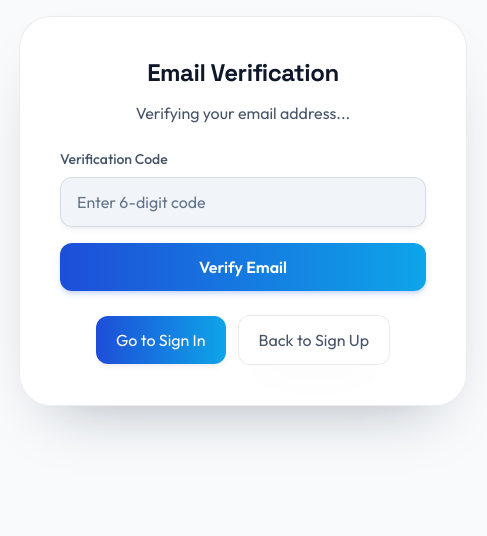
Test: Verify Email Page › shows an error message when verification fails
Type "000000" into the field labelled "Verification Code" at [243, 202], box [60,177,426,227]
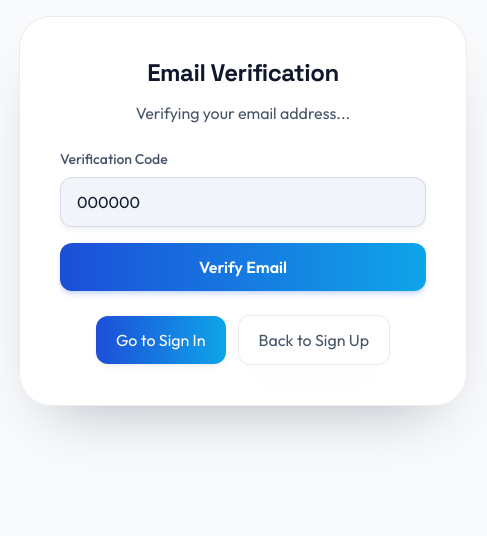
Submit the form "Verification Code Verify Email", box [60,149,426,291]
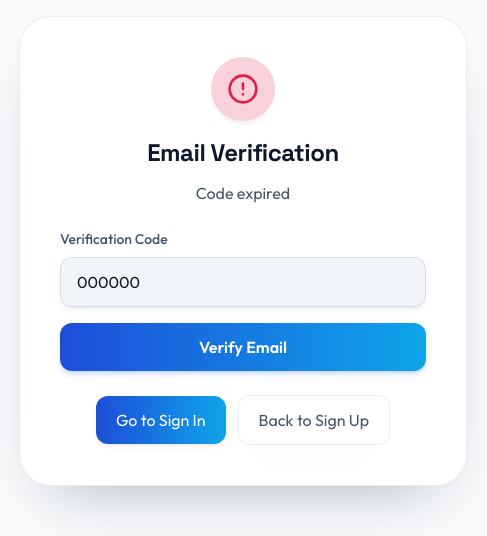
Now the text "Code expired" is shown, box [196,183,290,203]
